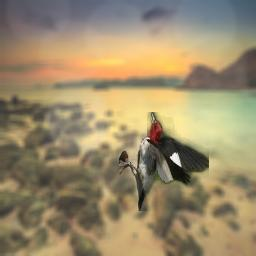Woodpecker: (119, 112, 209, 211)
